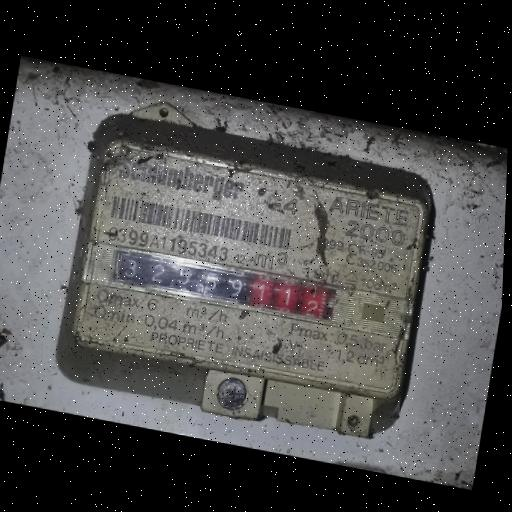1: (300, 283, 330, 321), (251, 274, 272, 310), (277, 279, 297, 314)
2: (147, 258, 171, 289)
3: (121, 253, 144, 284)
5: (200, 268, 222, 297), (174, 264, 196, 291)
9: (224, 273, 247, 302)
border_water_meter_number: (111, 246, 339, 325)
